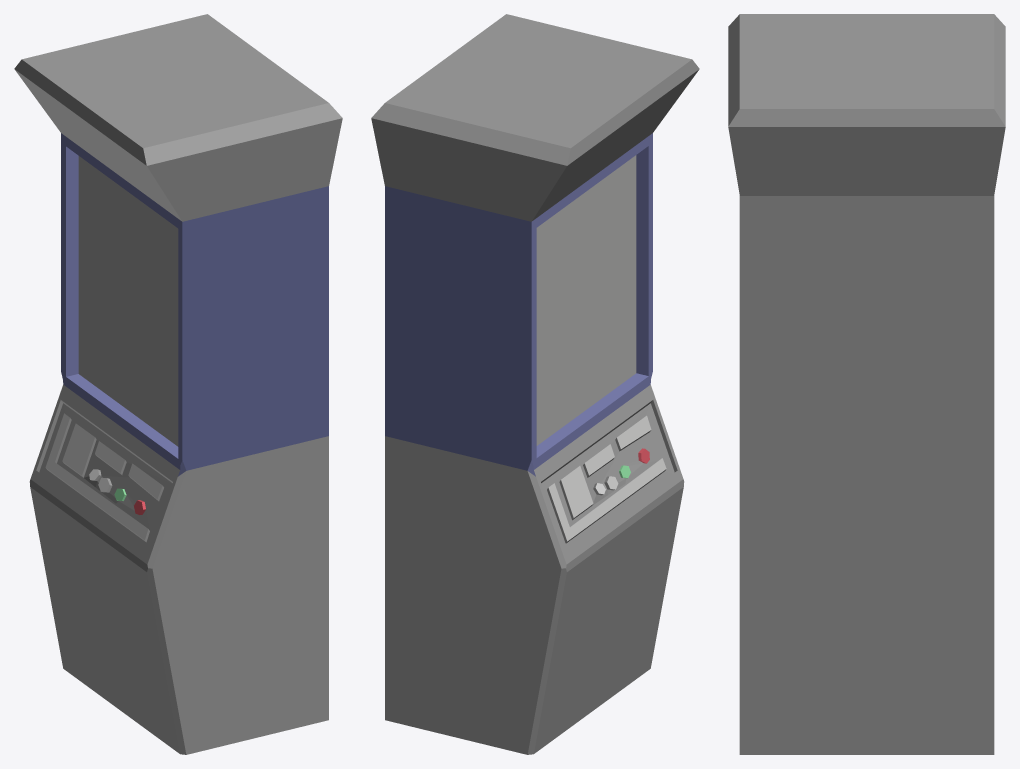
The model's file is 0_1_Computer_2.fbx.
3 renders of one model, left to right at view 1: azimuth 30°, elevation 25°; view 2: azimuth 150°, elevation 25°; view 3: azimuth 270°, elevation 25°, orthographic. The views are drawn at different scales.
Parts seen in each view (by area): view 1: 0_1_Computer_2; view 2: 0_1_Computer_2; view 3: 0_1_Computer_2.
Boxes of the visible parts, x1,y1,x2,y2 form: 0_1_Computer_2: (14,14,342,754); 0_1_Computer_2: (371,14,699,754); 0_1_Computer_2: (728,14,1005,754).
Bounding box in the file's own units: 82.01 × 247 × 96.06.
